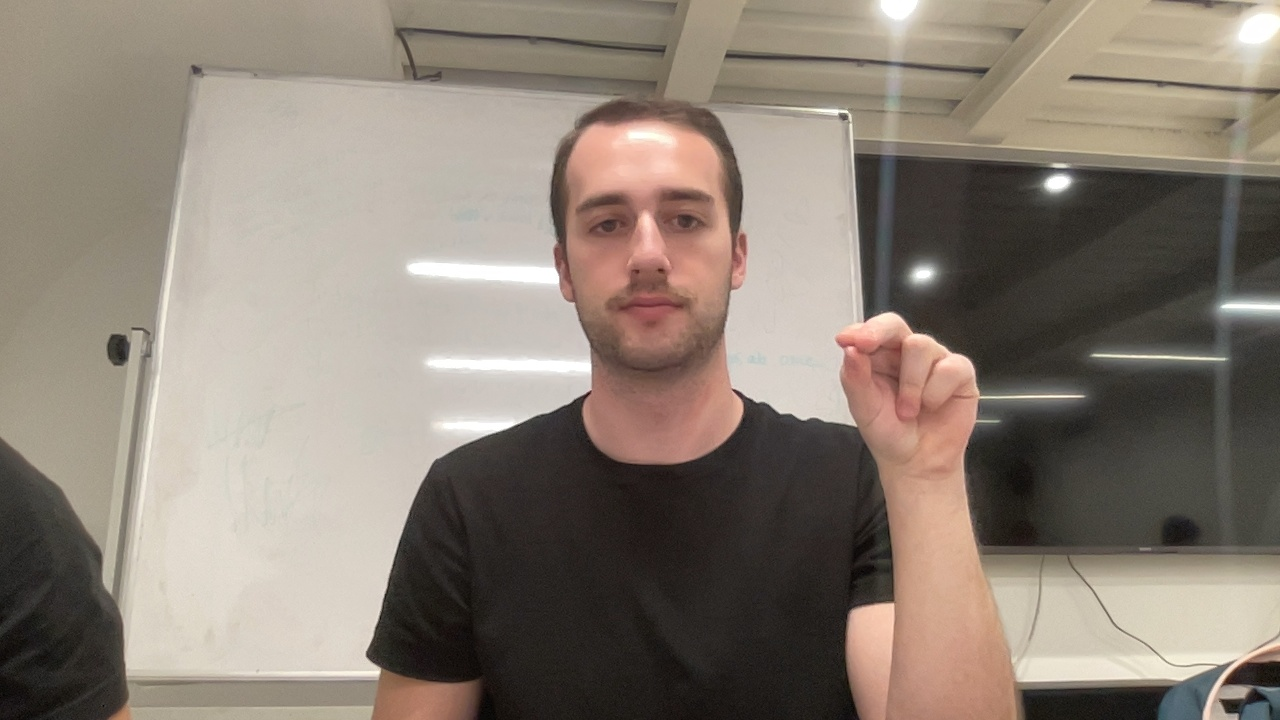No: (837, 312, 983, 479)
